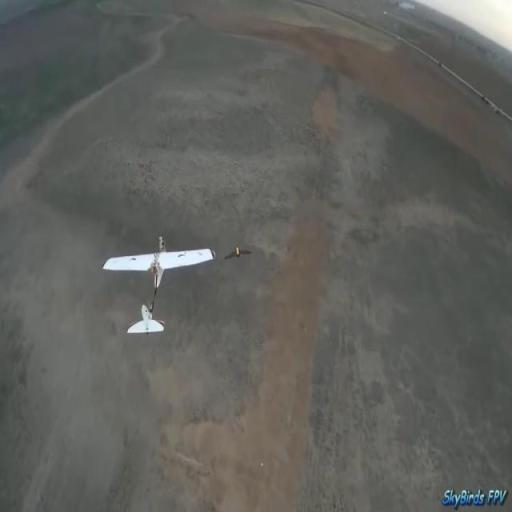uav: (103, 243, 216, 332), (225, 246, 250, 262)
